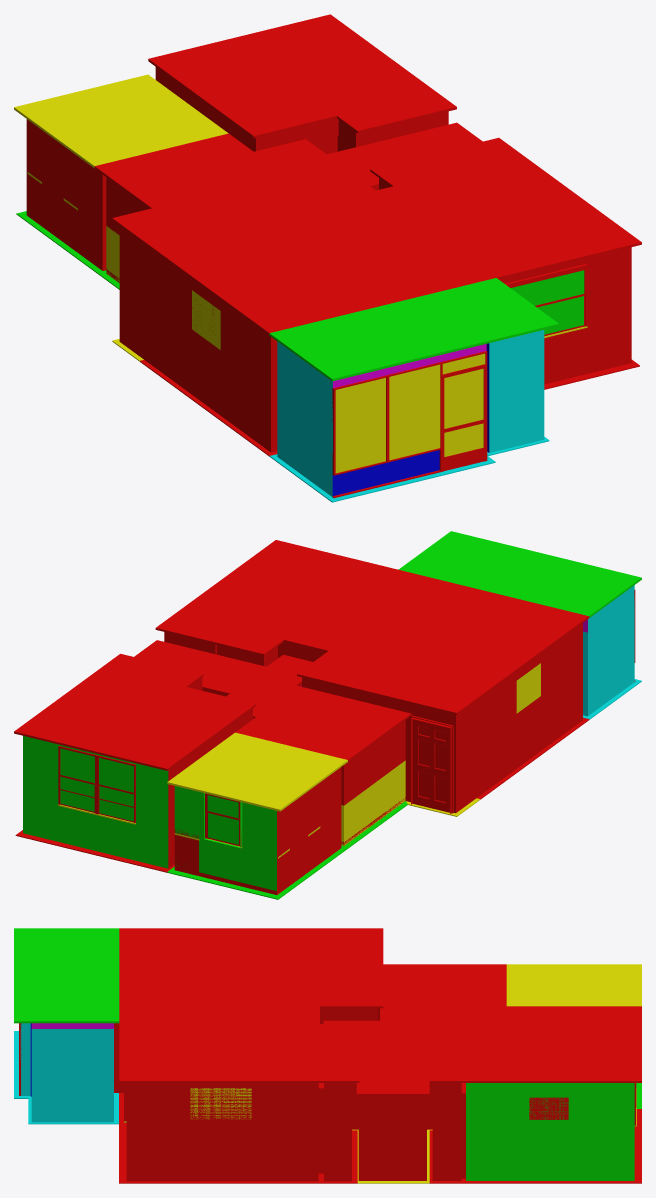
File: habitat_house_01_grp.fbx
The picture shows the model from 3 angles, top to bottom: view 1: azimuth 30°, elevation 25°; view 2: azimuth 150°, elevation 25°; view 3: azimuth 270°, elevation 25°; orthographic projection. The views are drawn at different scales.
Parts seen in each view (by area): view 1: habitat_house_01_ceiling, habitat_house_01_walls, habitat_house_01_doorway_3, habitat_house_01_doorway_3_door, habitat_house_01_floor, habitat_house_01_window_2, habitat_house_01_cupboard_2, habitat_house_01_wall_decor_1, habitat_house_01_baseboard_1; view 2: habitat_house_01_ceiling, habitat_house_01_walls, habitat_house_01_window_3, habitat_house_01_floor, habitat_house_01_doorway_1_door, habitat_house_01_window_1, habitat_house_01_cupboard_2, habitat_house_01_baseboard_1, habitat_house_01_countertop_2, habitat_house_01_wall_decor_1; view 3: habitat_house_01_ceiling, habitat_house_01_walls, habitat_house_01_floor, habitat_house_01_shower_stall, habitat_house_01_wall_decor_3, habitat_house_01_wall_decor_4.
Boxes of the visible parts, x1,y1,x2,y2 form: habitat_house_01_ceiling: [14, 14, 641, 381]; habitat_house_01_walls: [26, 67, 631, 496]; habitat_house_01_doorway_3: [332, 351, 487, 498]; habitat_house_01_doorway_3_door: [442, 366, 485, 471]; habitat_house_01_floor: [16, 211, 639, 502]; habitat_house_01_window_2: [505, 264, 587, 337]; habitat_house_01_cupboard_2: [26, 119, 106, 186]; habitat_house_01_wall_decor_1: [192, 290, 220, 349]; habitat_house_01_baseboard_1: [26, 211, 277, 451]; habitat_house_01_ceiling: [14, 531, 641, 811]; habitat_house_01_walls: [23, 585, 634, 894]; habitat_house_01_window_3: [58, 746, 135, 824]; habitat_house_01_floor: [15, 679, 641, 899]; habitat_house_01_doorway_1_door: [413, 719, 450, 812]; habitat_house_01_window_1: [205, 793, 242, 848]; habitat_house_01_cupboard_2: [277, 767, 341, 838]; habitat_house_01_baseboard_1: [168, 718, 582, 894]; habitat_house_01_countertop_2: [174, 833, 199, 874]; habitat_house_01_wall_decor_1: [516, 663, 540, 713]; habitat_house_01_ceiling: [14, 928, 641, 1095]; habitat_house_01_walls: [20, 1008, 634, 1181]; habitat_house_01_floor: [14, 1031, 641, 1183]; habitat_house_01_shower_stall: [358, 1096, 426, 1180]; habitat_house_01_wall_decor_3: [190, 1088, 251, 1119]; habitat_house_01_wall_decor_4: [529, 1097, 568, 1119].
Bounding box in the file's own units: 788 × 250 × 1371.
